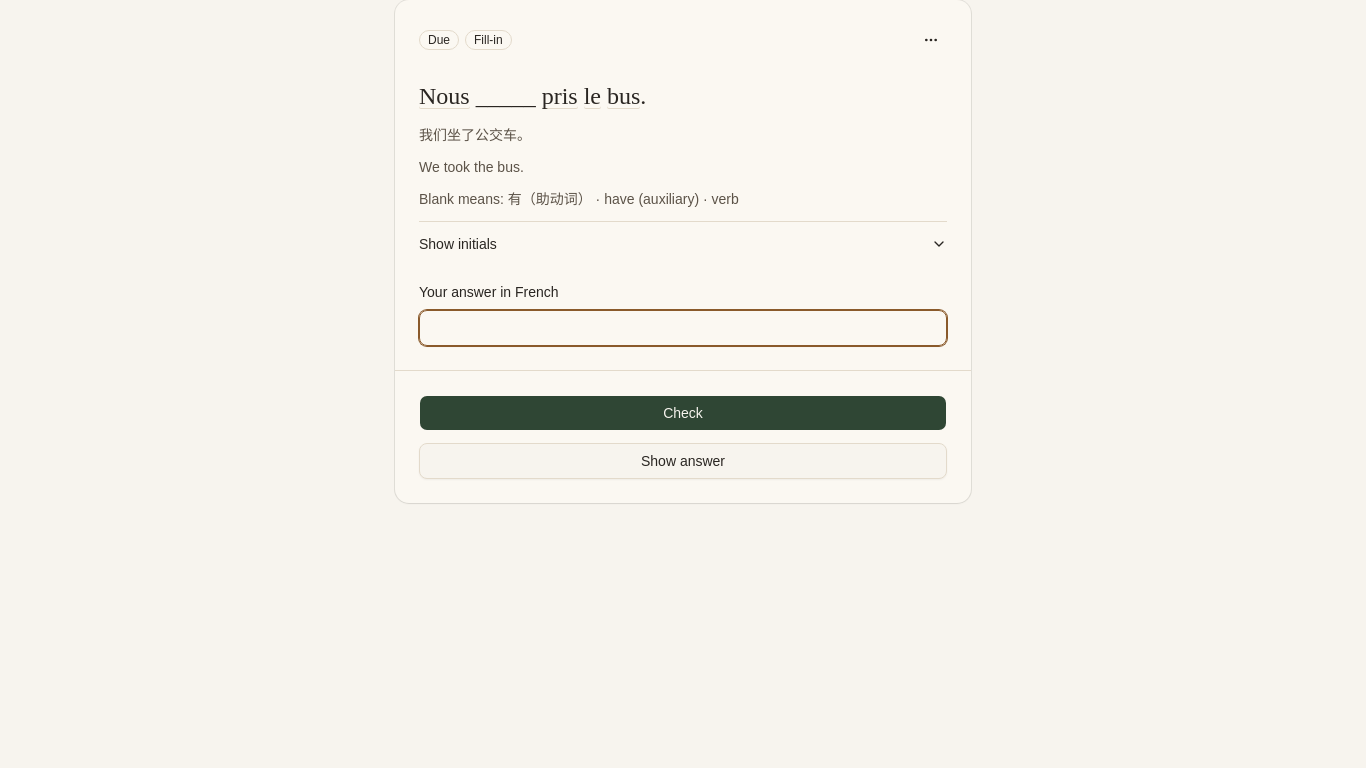
Test case: Task C — Anki-style review card › a cloze front word speaks and opens its meaning without revealing or rating the card
Step 1. Click the text "Nous" → {"x": 444, "y": 96}, box [419,83,470,109]
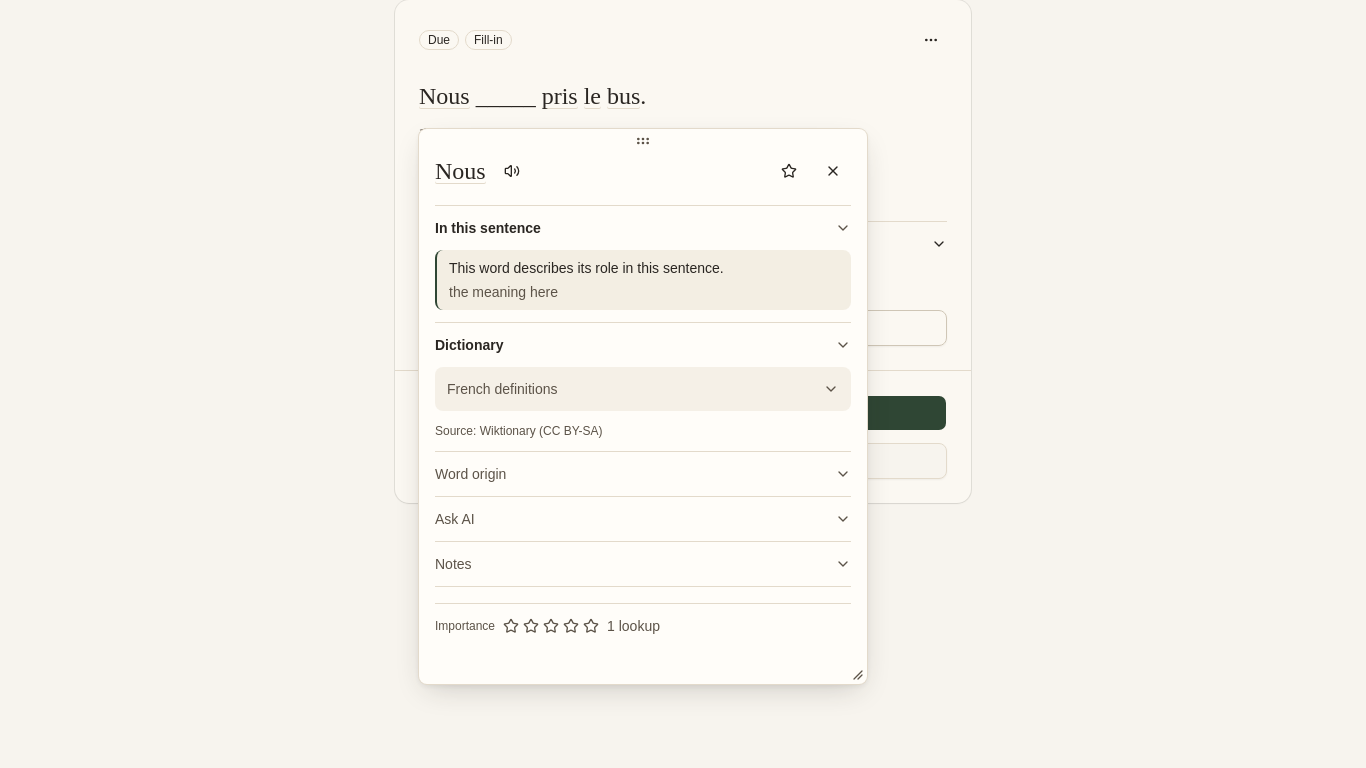
expect the element with class "word-card" is shown: met, box [435,153,851,636]
expect the element with class "wp-headword" reads "Nous": met, box [435,158,486,184]
